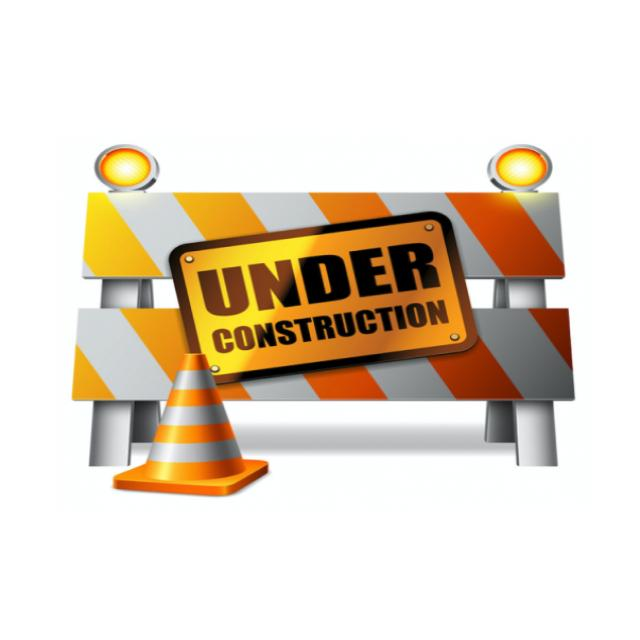cone: (72, 189, 574, 473)
